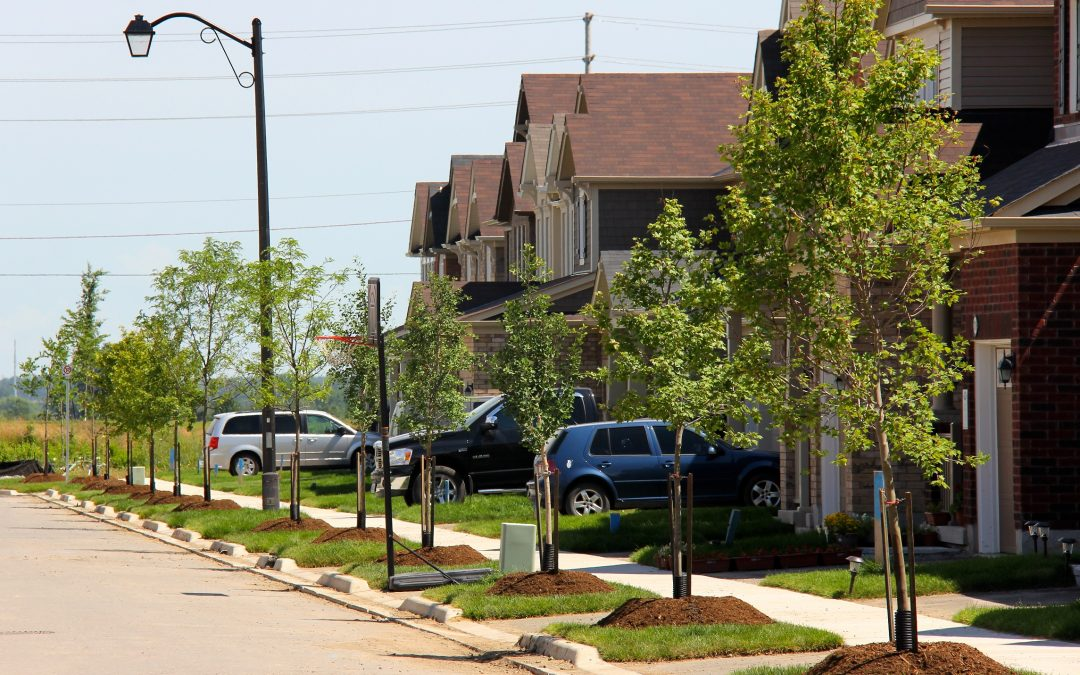pole: (260, 274, 279, 512)
tree: (878, 436, 913, 601), (536, 448, 562, 592), (672, 428, 688, 595), (423, 454, 434, 546)
tree branches: (796, 126, 913, 293), (646, 290, 704, 387), (120, 355, 178, 410), (502, 347, 577, 389), (405, 338, 467, 376)
vehicle: (538, 429, 790, 508), (387, 390, 590, 480), (208, 412, 375, 472)
